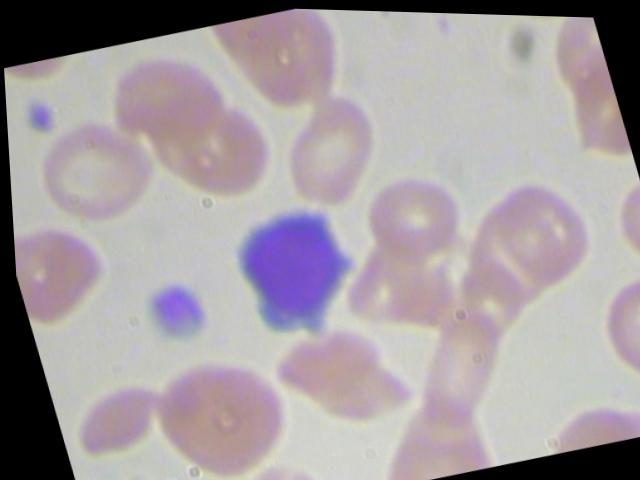Platelets: (123, 270, 217, 360), (16, 92, 65, 145)
Red Blood Cells: (135, 340, 301, 479), (19, 105, 172, 244), (259, 81, 394, 213), (351, 164, 470, 273), (10, 218, 115, 331), (57, 372, 161, 464)
White Blood Cells: (216, 185, 365, 349)
